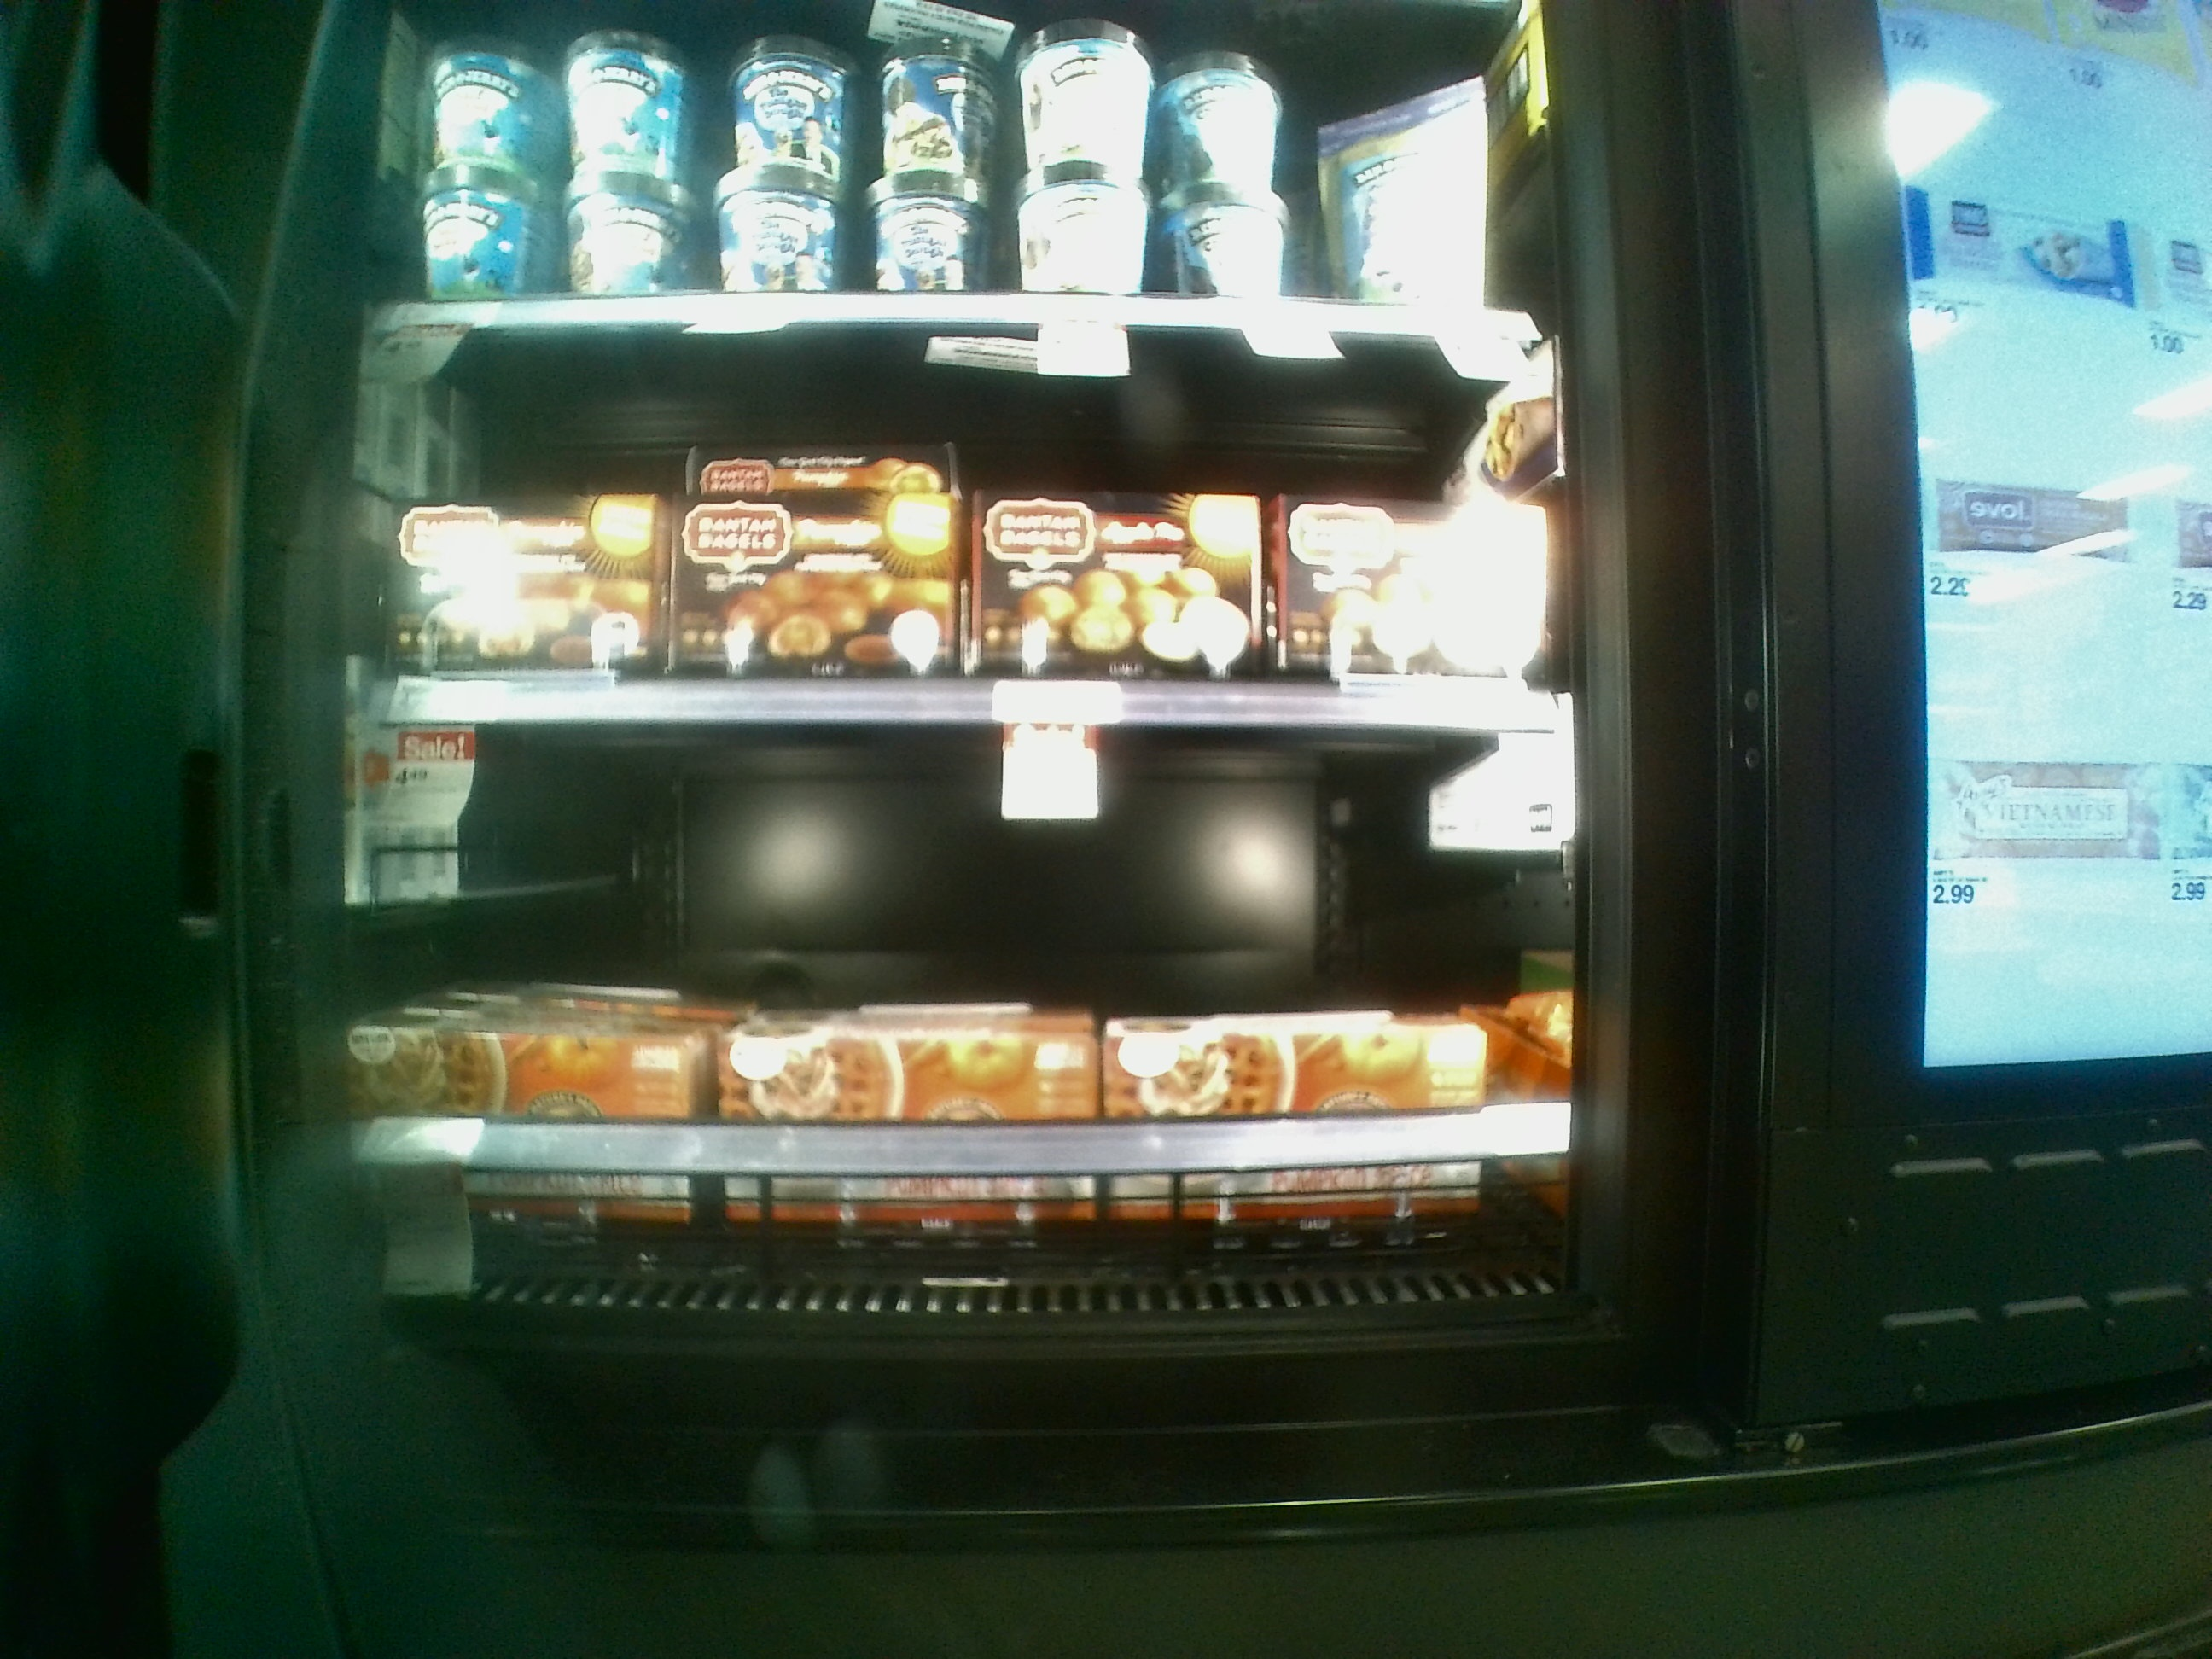shelf: (345, 711, 1583, 1310), (361, 321, 1578, 737)
